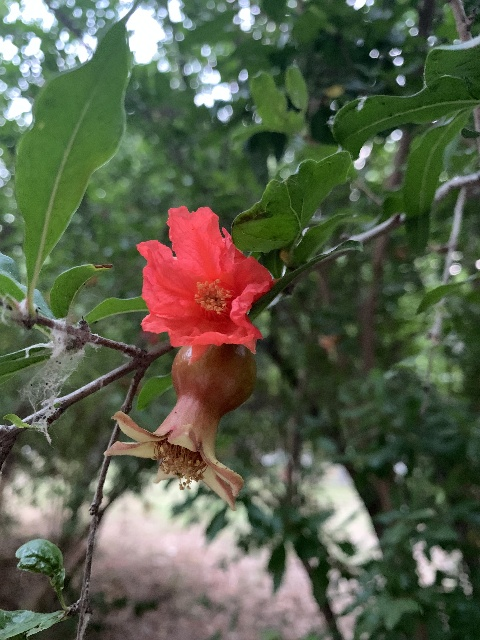early-fruit: (103, 345, 256, 511)
flower: (135, 204, 275, 364)
